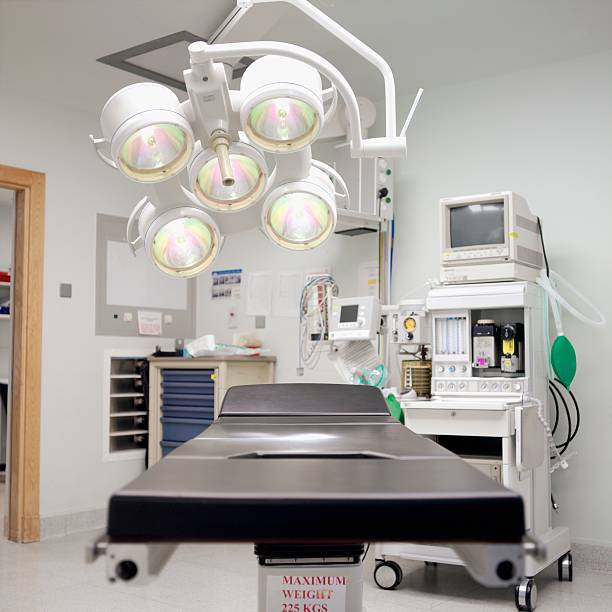bedside_monitor: (435, 189, 547, 281), (334, 295, 373, 339)
bedside_table: (147, 354, 278, 468)
breathing_tube: (536, 265, 604, 332)
operating_bed: (94, 374, 529, 612)
surgical_light: (106, 83, 339, 280)
ventilator: (371, 285, 581, 612)
